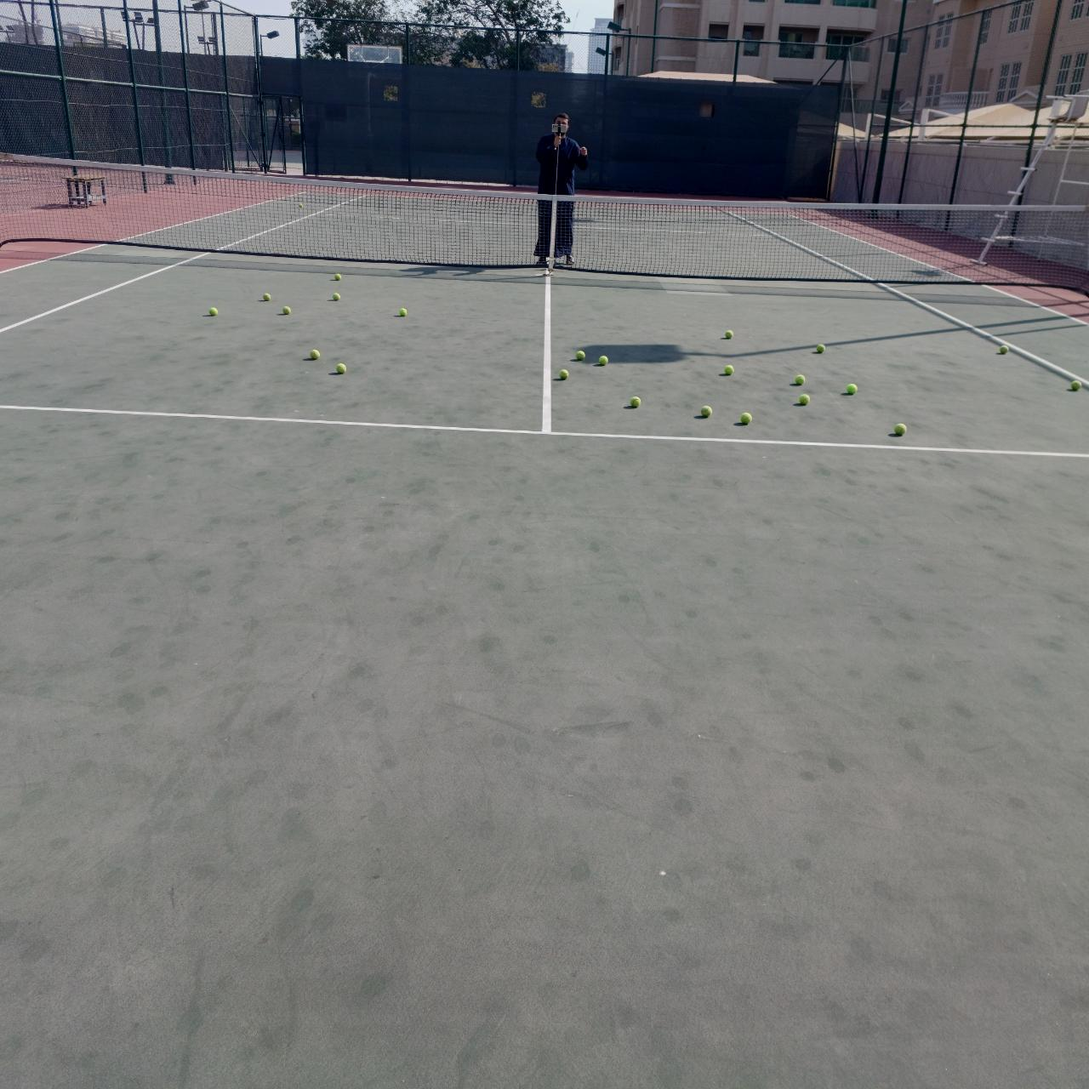tennis-ball: (893, 421, 908, 436), (845, 381, 859, 395), (629, 396, 642, 408), (740, 413, 752, 425), (799, 393, 810, 406), (701, 405, 713, 416), (1070, 380, 1082, 391), (336, 363, 347, 374), (724, 365, 735, 375), (559, 369, 569, 380), (794, 375, 806, 384), (576, 350, 585, 360), (599, 355, 608, 365), (310, 350, 320, 359), (209, 307, 218, 316), (725, 331, 734, 339), (1000, 345, 1009, 353), (282, 306, 291, 314), (399, 308, 407, 317), (263, 293, 271, 301), (816, 345, 825, 352), (333, 293, 340, 301), (335, 274, 342, 281)
